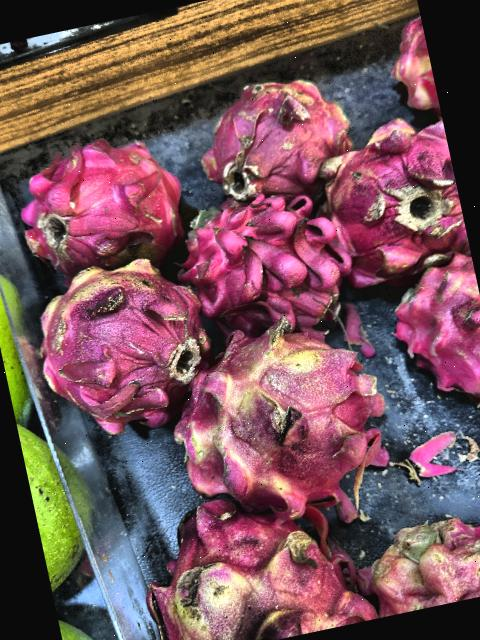buah-naga-belum-matang: (154, 310, 396, 530), (125, 466, 377, 640), (22, 242, 220, 436), (309, 114, 472, 286), (177, 59, 360, 202), (348, 489, 480, 620), (383, 12, 439, 112)
buah-naga-matang: (177, 175, 352, 346), (4, 125, 194, 282), (379, 239, 480, 411)
